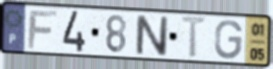4: (62, 9, 87, 54)
8: (105, 13, 128, 54)
F: (27, 9, 60, 50)
G: (213, 18, 244, 61)
N: (134, 13, 169, 58)
T: (179, 14, 210, 60)
